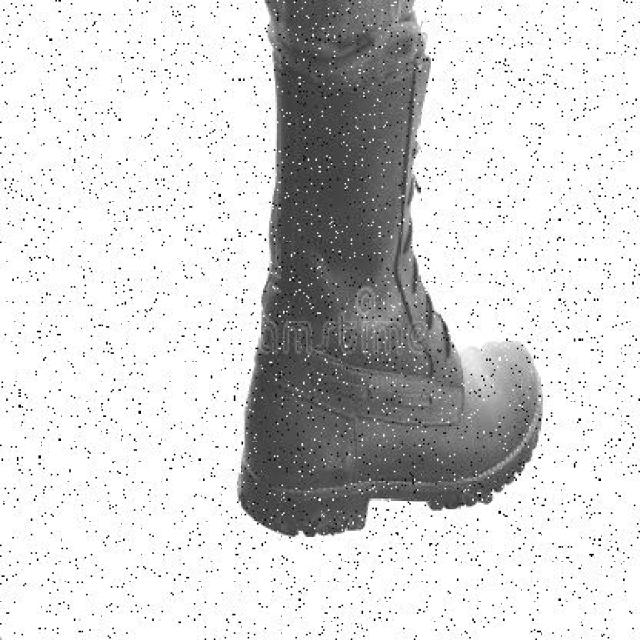shoes: (233, 29, 559, 554)
